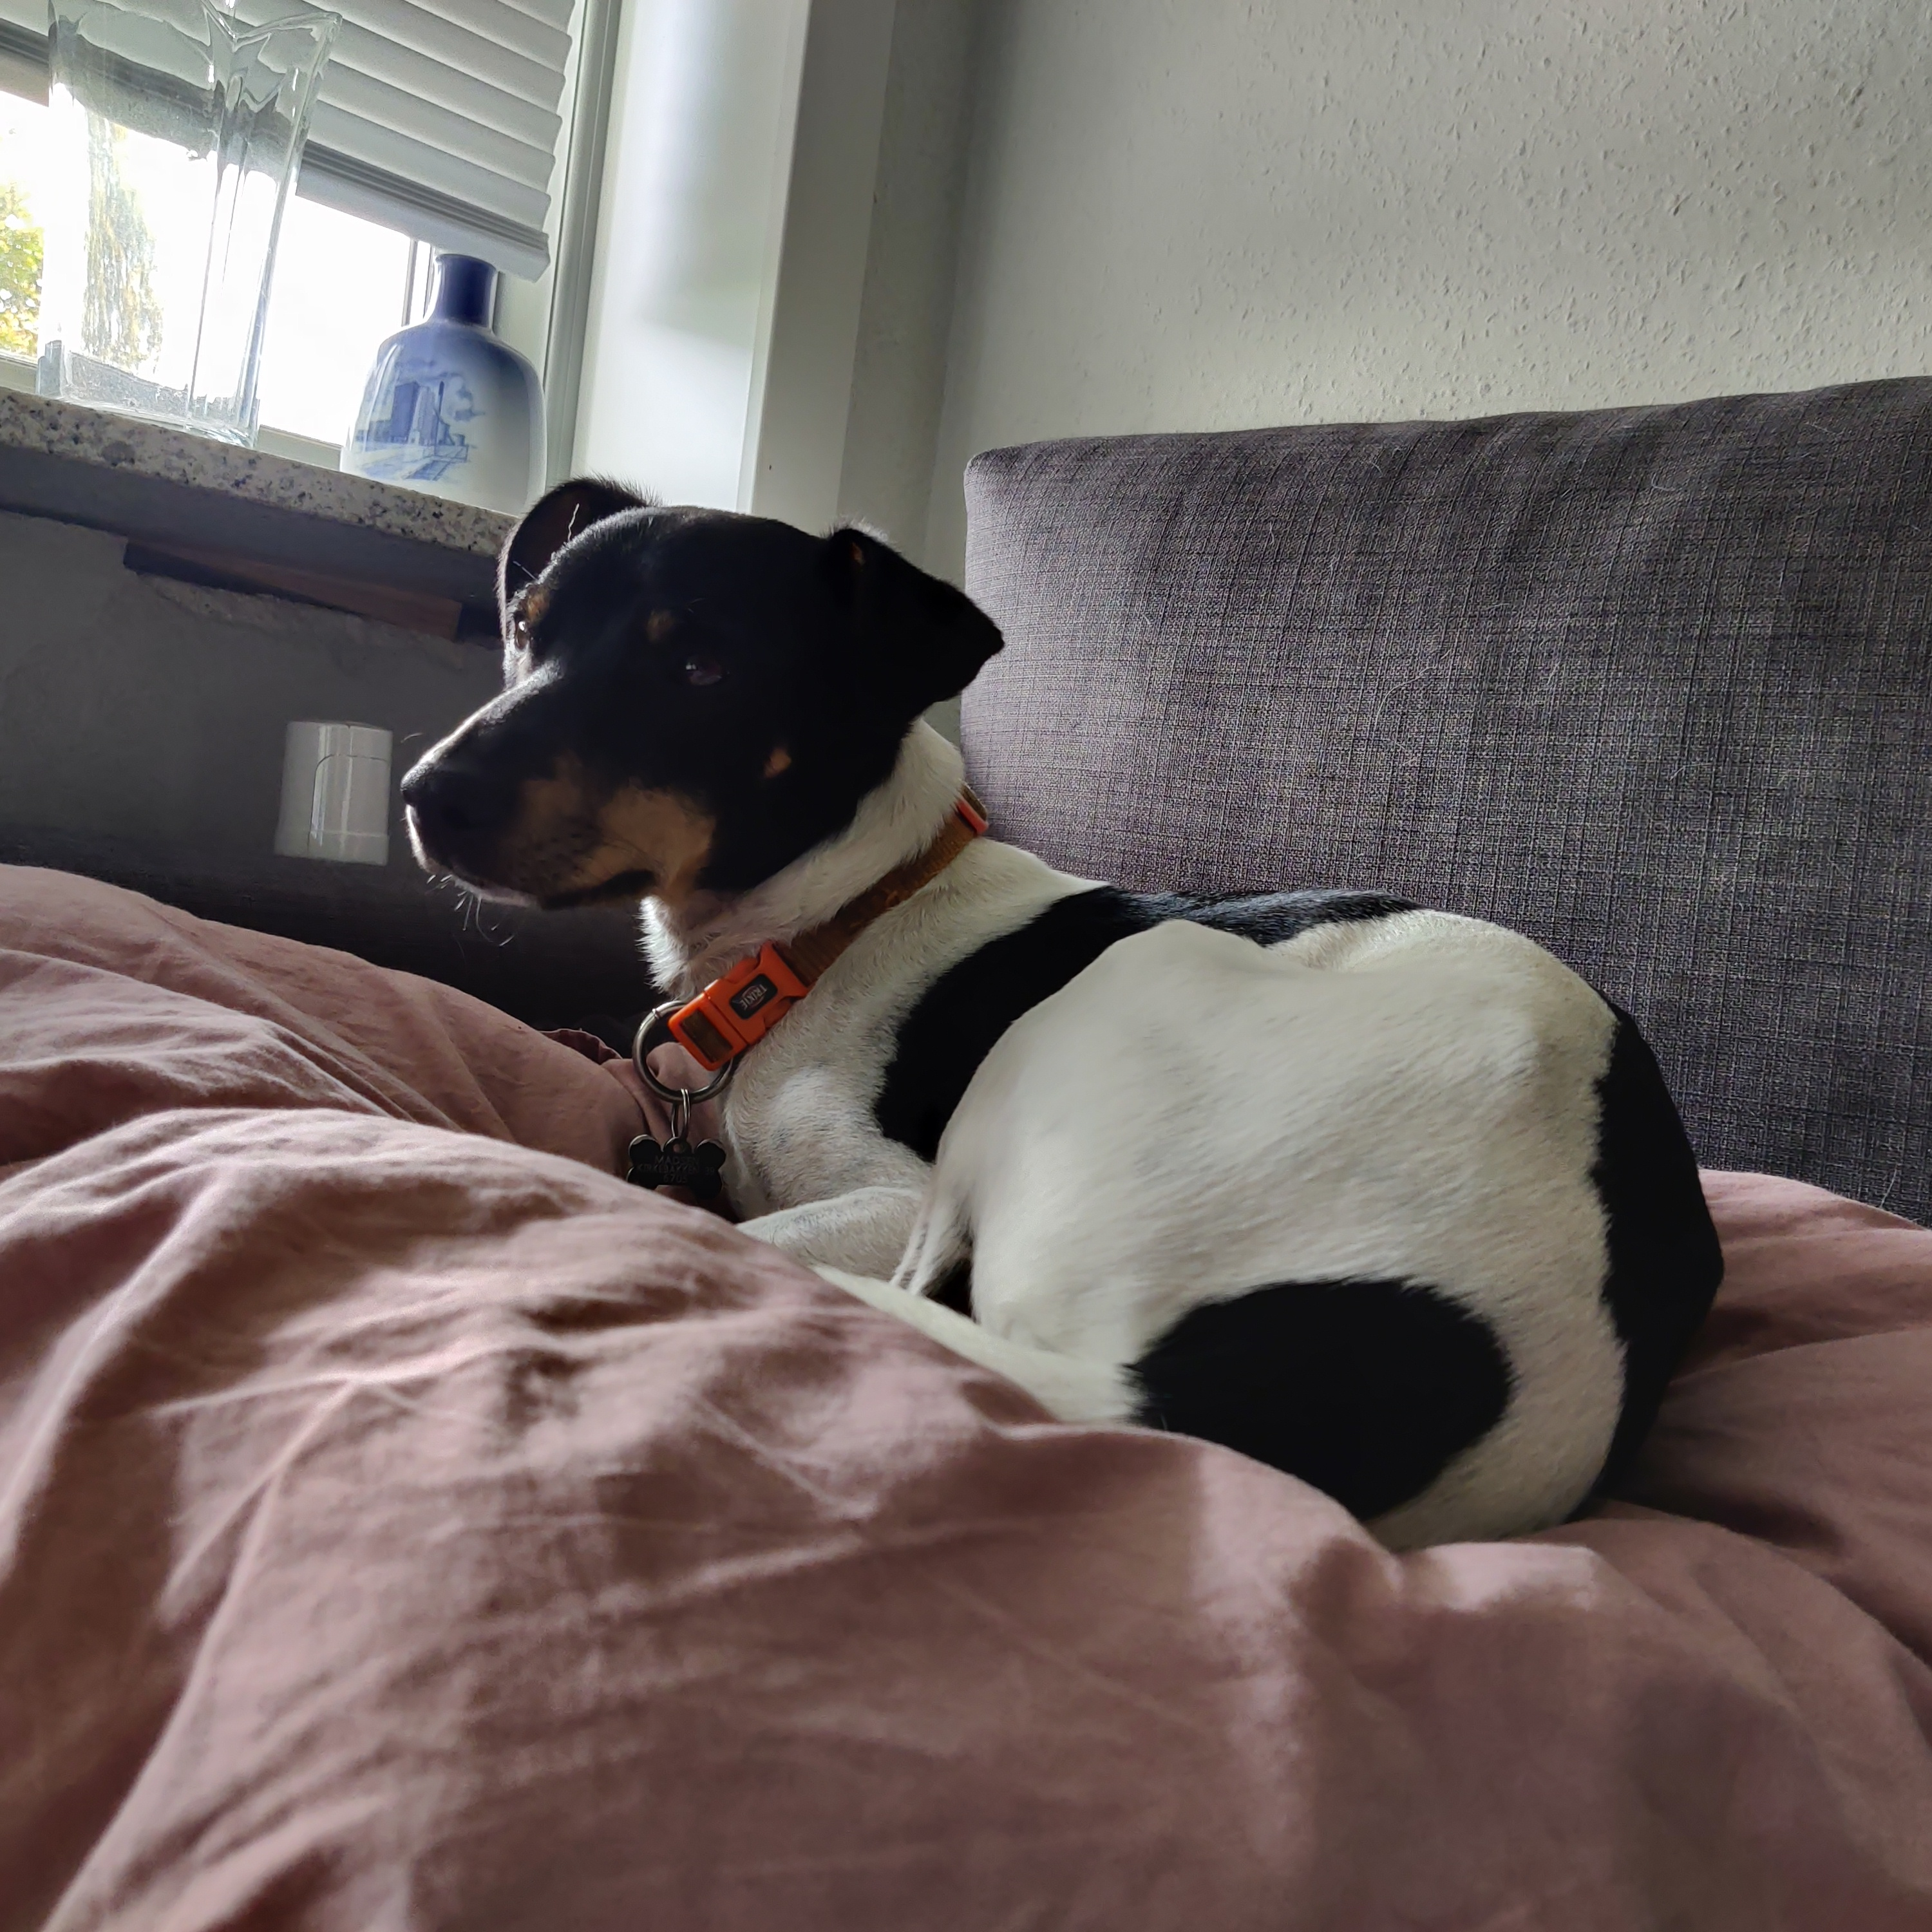Dog: (384, 467, 1730, 1562)
